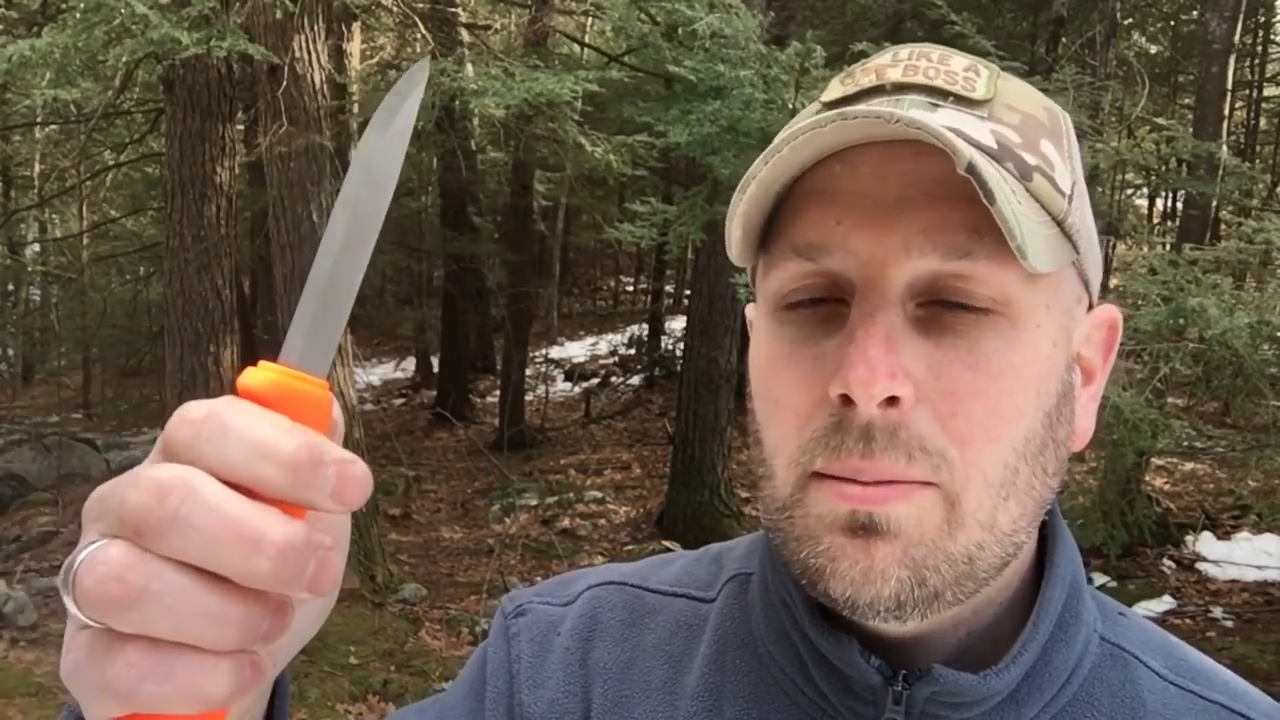knife: (111, 43, 446, 585)
